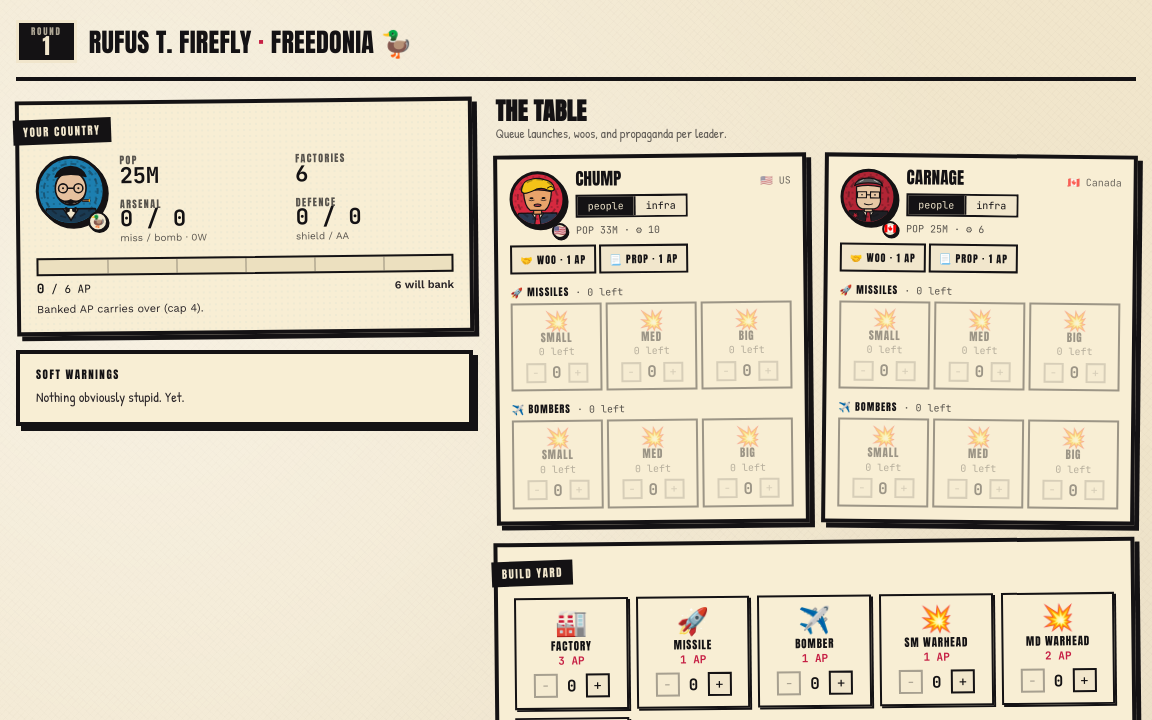
Scenario: <Planning> soft-warn panel › shows the warning after adding a warhead with no delivery owned
Click the button named "add Sm Warhead" at (963,682), box [951,670,976,694]
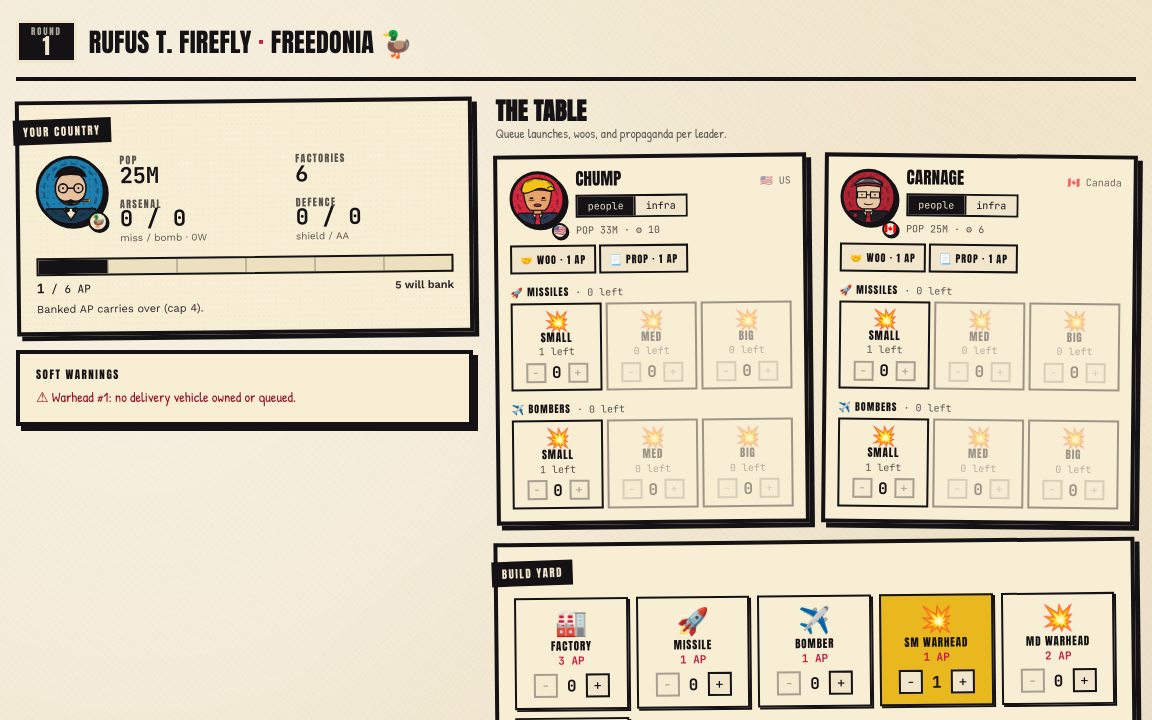
Expected: the list item "⚠ Warhead #1: no delivery vehicle owned or queued." is shown, [36,387,296,406]
Expected: the text "Nothing obviously stupid" is gone
